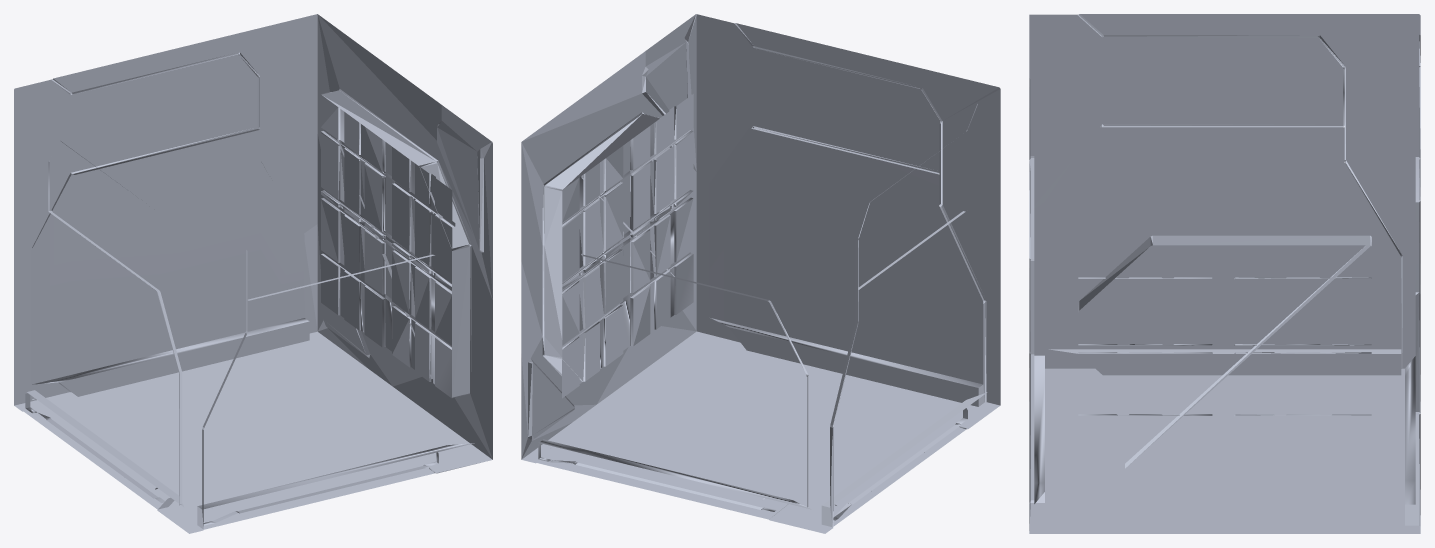
The model's file is uee_stanton_kit_ext_wall_8x8x8_02_reg.glb.
3 renders of one model, left to right at view 1: azimuth 30°, elevation 25°; view 2: azimuth 150°, elevation 25°; view 3: azimuth 270°, elevation 25°, orthographic. The views are drawn at different scales.
Size of the model in its own units: 8 by 8 by 8.
